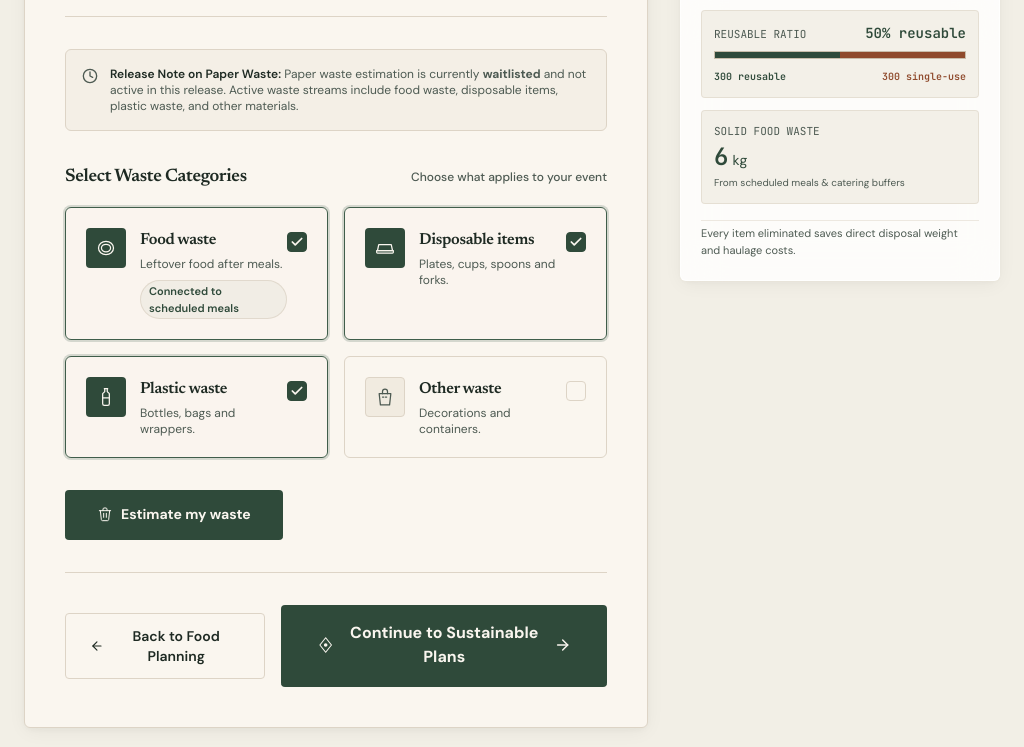
Test case: Waste Planning Page (Step 5 - Simplified MVP UX) › renders waste-reduction recommendations from the backend response
This screenshot has width=1024, height=747.
(page scrolled)
What coordinates should you click on to do the following:
click the button "Estimate my waste"
I would click on:
 (174, 515)
Its box is [65,490,283,540].
(page scrolled)
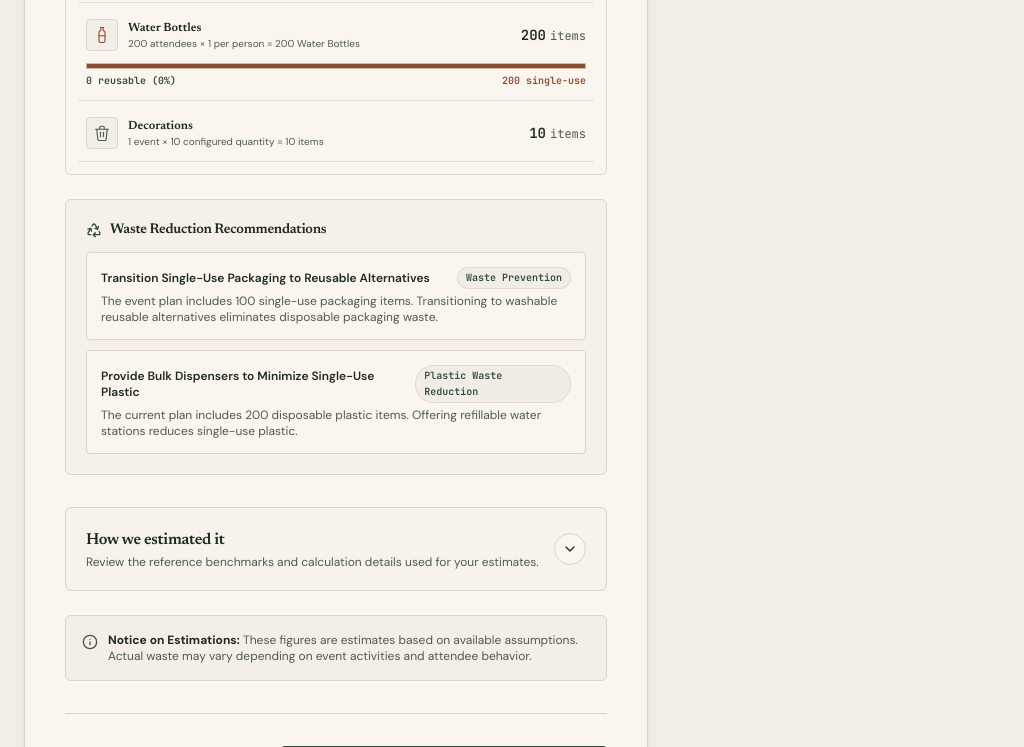
Expected: the heading "Waste Reduction Recommendations" is shown, [110,220,326,240]
Expected: the text "Transition Single-Use Packaging to Reusable Alternatives" is shown, [101,270,430,286]
Expected: the text "Waste Prevention" is shown, [457,267,571,289]
